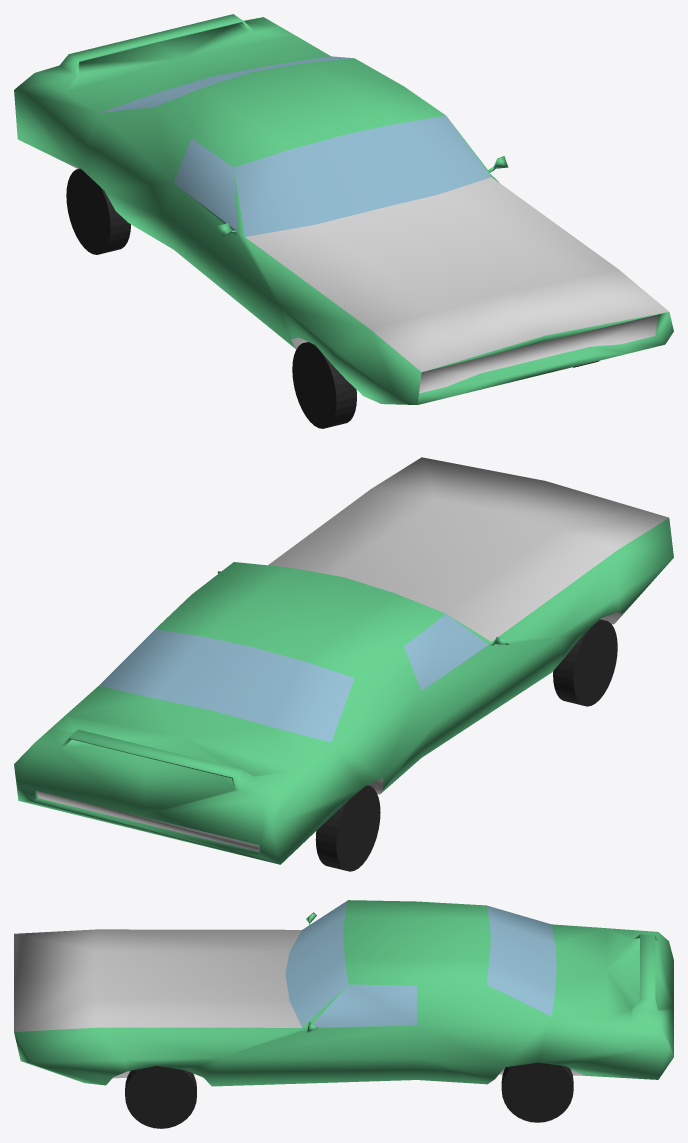
The model's file is car.dae.
3 renders of one model, top to bottom at view 1: azimuth 30°, elevation 25°; view 2: azimuth 150°, elevation 25°; view 3: azimuth 270°, elevation 25°, orthographic. The views are drawn at different scales.
Visible parts, largest first — view 1: car, rightFront, rightRear; view 2: car, rightFront, rightRear; view 3: car, leftFront, leftRear.
Boxes of the visible parts, x1,y1,x2,y2 form: car: [14, 14, 673, 404]; rightFront: [292, 342, 356, 428]; rightRear: [66, 168, 130, 254]; car: [14, 457, 673, 864]; rightFront: [553, 619, 617, 706]; rightRear: [315, 785, 380, 871]; car: [14, 900, 673, 1086]; leftFront: [125, 1066, 196, 1128]; leftRear: [501, 1062, 573, 1122].
Bounding box in the file's own units: 3.58 × 8.72 × 2.06.
